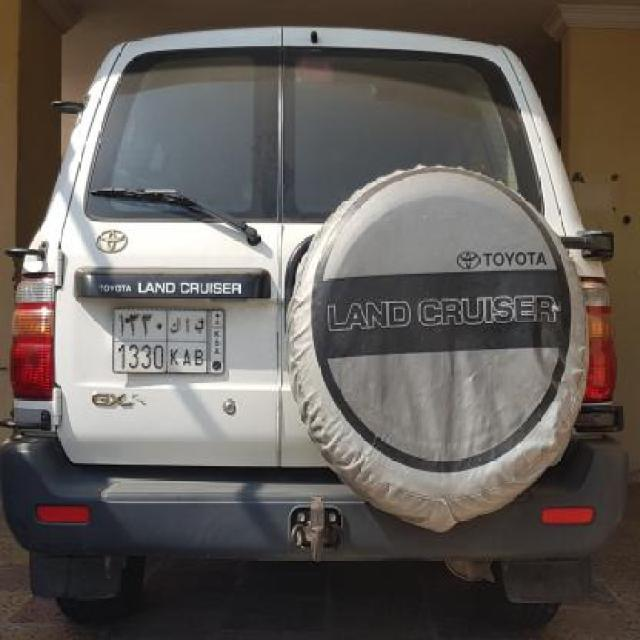license_plate: (110, 305, 227, 378)
